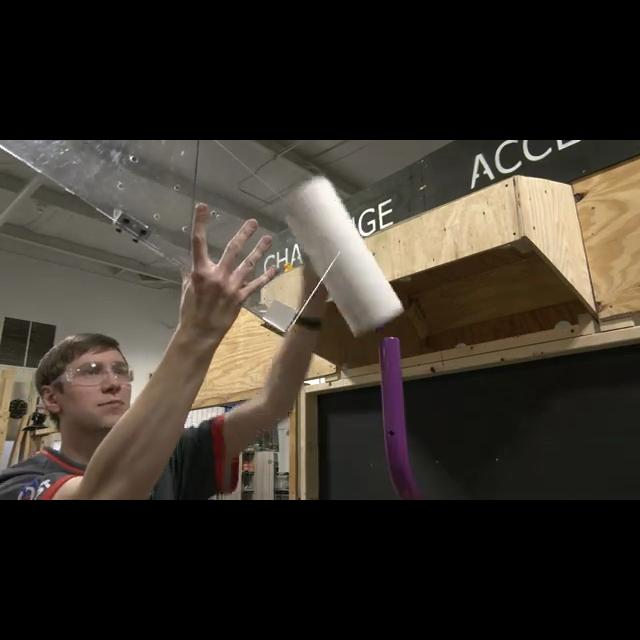CORAL: (281, 174, 405, 338)
